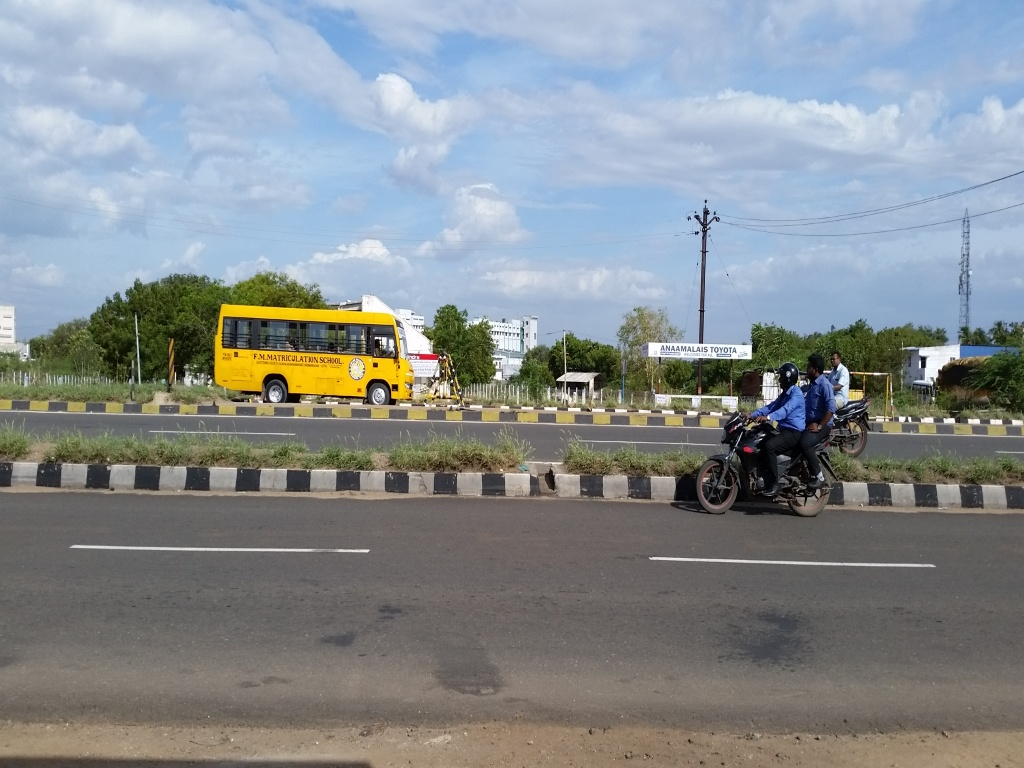biker: (685, 325, 883, 525), (828, 333, 877, 465)
helmet: (771, 353, 802, 398)
nohelmet: (803, 352, 826, 385), (826, 346, 849, 379)
